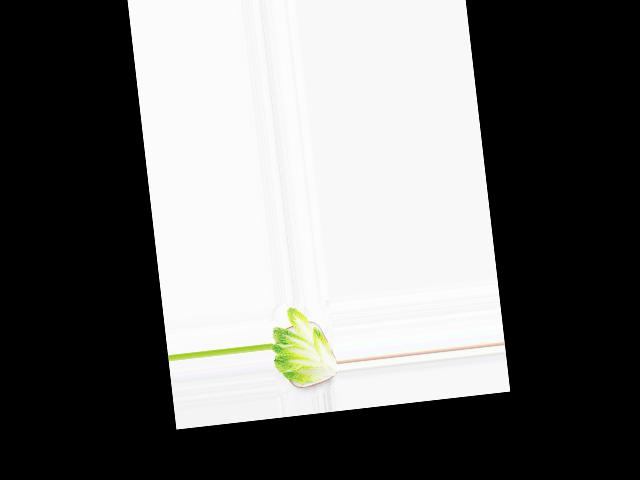lettuce: (266, 301, 337, 392)
